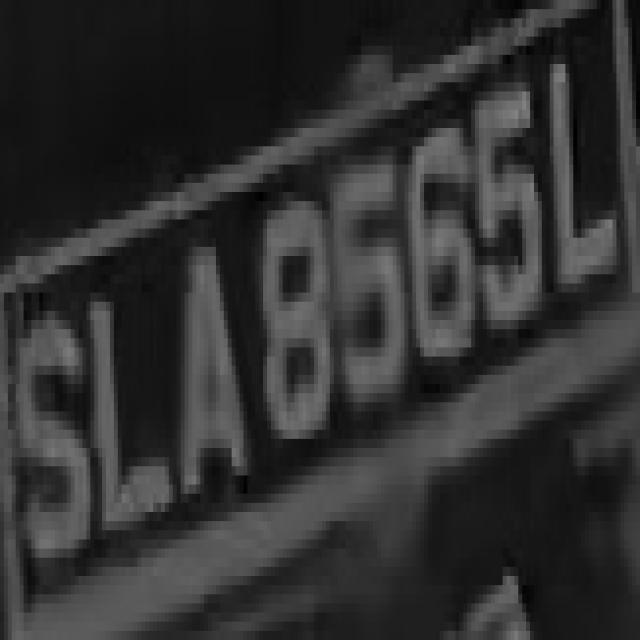5: (318, 119, 416, 448), (463, 46, 546, 384)
6: (401, 101, 479, 384)
8: (236, 128, 330, 512)
A: (161, 192, 247, 567)
L: (538, 9, 636, 329), (74, 256, 168, 558)
S: (12, 274, 86, 613)
